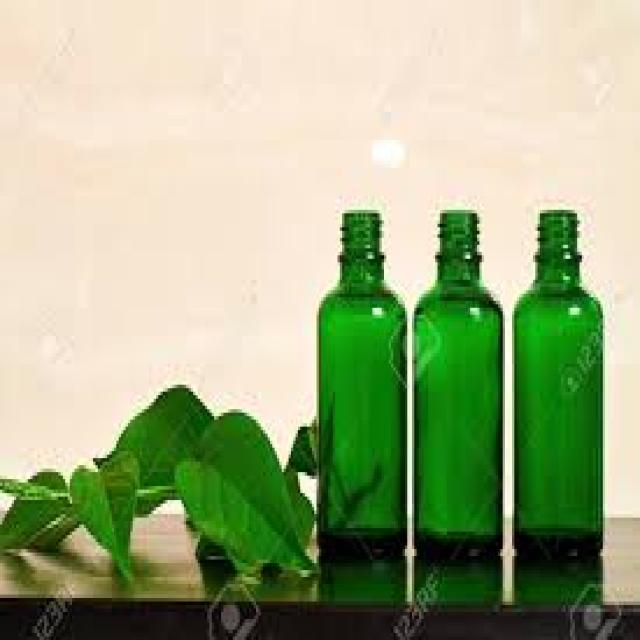glass: (510, 206, 601, 556), (412, 207, 500, 560), (316, 210, 405, 552)
